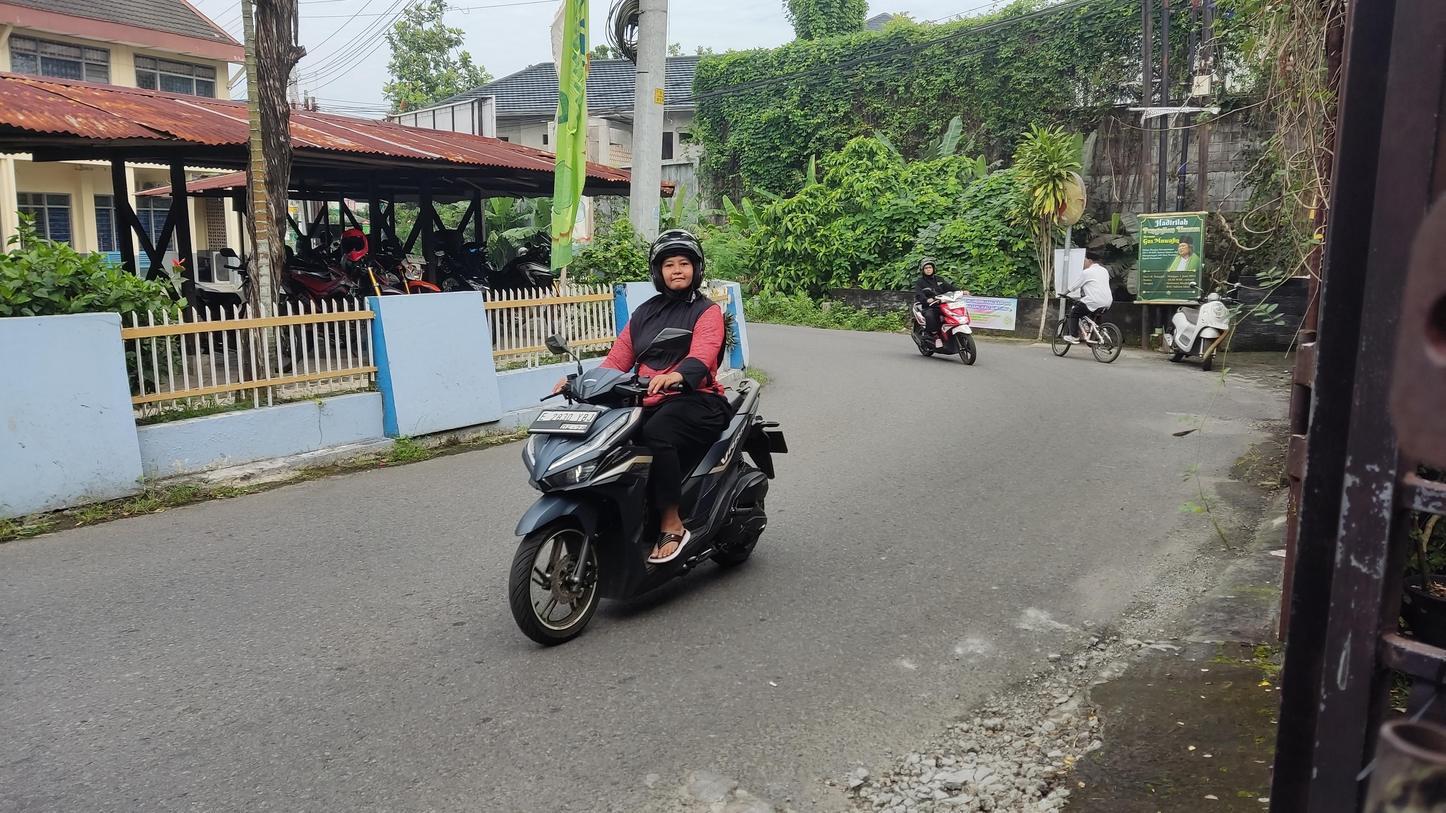helm: (647, 220, 710, 302)
riding: (492, 218, 795, 649)
